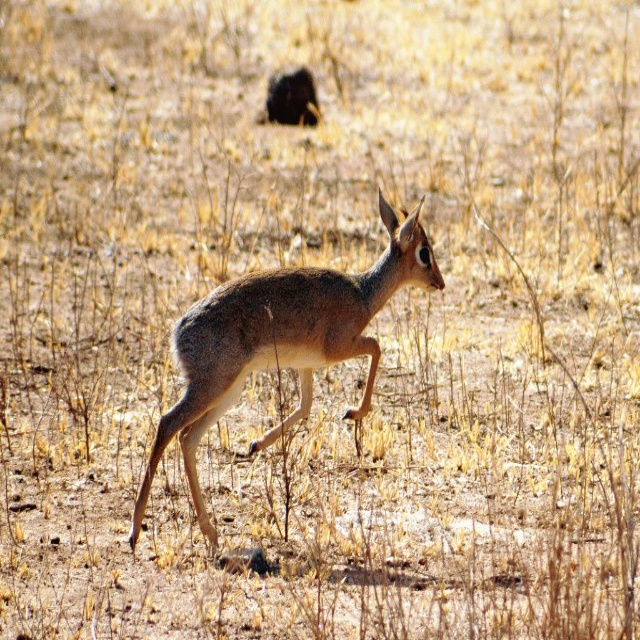Deer: (127, 189, 447, 556)
